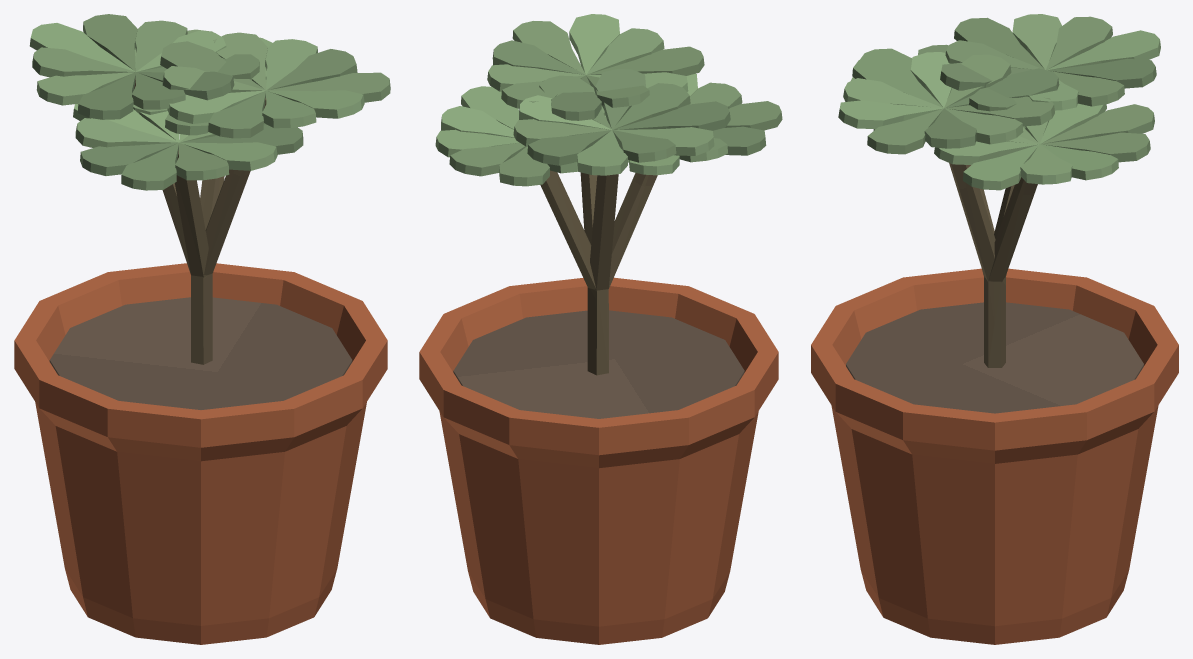
Rendered from new-arboreum.glb.
3 views of the same model, side by side, from view 1: azimuth 30°, elevation 25°; view 2: azimuth 150°, elevation 25°; view 3: azimuth 270°, elevation 25° (orthographic). The views are drawn at different scales.
Visible parts, largest first — view 1: new-arboreum/review-terra-vessel, new-arboreum/review-rooted-soil, new-arboreum/stem-034, new-arboreum/stem-023, new-arboreum/leaf-014, new-arboreum/leaf-015, new-arboreum/leaf-016, new-arboreum/leaf-027, new-arboreum/leaf-029, new-arboreum/leaf-040, new-arboreum/leaf-018, new-arboreum/leaf-044 (+22 smaller); view 2: new-arboreum/review-terra-vessel, new-arboreum/review-rooted-soil, new-arboreum/stem-012, new-arboreum/stem-001, new-arboreum/stem-023, new-arboreum/leaf-018, new-arboreum/leaf-042, new-arboreum/leaf-040, new-arboreum/leaf-043, new-arboreum/leaf-041, new-arboreum/leaf-014, new-arboreum/leaf-019 (+23 smaller); view 3: new-arboreum/review-terra-vessel, new-arboreum/review-rooted-soil, new-arboreum/stem-034, new-arboreum/stem-001, new-arboreum/leaf-004, new-arboreum/leaf-015, new-arboreum/leaf-016, new-arboreum/leaf-042, new-arboreum/leaf-043, new-arboreum/leaf-010, new-arboreum/leaf-018, new-arboreum/leaf-040 (+21 smaller).
Part boxes in pixels (x1=…): new-arboreum/review-terra-vessel: x1=14, y1=263, x2=387, y2=644; new-arboreum/review-rooted-soil: x1=49, y1=297, x2=352, y2=409; new-arboreum/stem-034: x1=191, y1=98, x2=266, y2=364; new-arboreum/stem-023: x1=175, y1=150, x2=212, y2=364; new-arboreum/leaf-014: x1=83, y1=14, x2=137, y2=71; new-arboreum/leaf-015: x1=29, y1=23, x2=134, y2=71; new-arboreum/leaf-016: x1=32, y1=47, x2=135, y2=77; new-arboreum/leaf-027: x1=75, y1=118, x2=178, y2=147; new-arboreum/leaf-029: x1=121, y1=143, x2=178, y2=190; new-arboreum/leaf-040: x1=208, y1=91, x2=265, y2=138; new-arboreum/leaf-018: x1=78, y1=72, x2=135, y2=119; new-arboreum/leaf-044: x1=267, y1=49, x2=357, y2=90; new-arboreum/review-terra-vessel: x1=419, y1=277, x2=778, y2=644; new-arboreum/review-rooted-soil: x1=453, y1=310, x2=744, y2=418; new-arboreum/stem-012: x1=587, y1=174, x2=618, y2=375; new-arboreum/stem-001: x1=540, y1=170, x2=608, y2=375; new-arboreum/stem-023: x1=596, y1=173, x2=657, y2=348; new-arboreum/leaf-018: x1=613, y1=101, x2=730, y2=130; new-arboreum/leaf-042: x1=569, y1=14, x2=619, y2=74; new-arboreum/leaf-040: x1=587, y1=46, x2=704, y2=75; new-arboreum/leaf-043: x1=512, y1=21, x2=585, y2=74; new-arboreum/leaf-041: x1=586, y1=28, x2=664, y2=74; new-arboreum/leaf-014: x1=527, y1=130, x2=611, y2=165; new-arboreum/leaf-019: x1=612, y1=83, x2=690, y2=129; new-arboreum/review-terra-vessel: x1=811, y1=268, x2=1178, y2=644; new-arboreum/review-rooted-soil: x1=846, y1=302, x2=1143, y2=413; new-arboreum/stem-034: x1=949, y1=163, x2=1005, y2=330; new-arboreum/stem-001: x1=984, y1=177, x2=1037, y2=281; new-arboreum/leaf-004: x1=1041, y1=104, x2=1154, y2=143; new-arboreum/leaf-015: x1=1047, y1=30, x2=1160, y2=70; new-arboreum/leaf-016: x1=1046, y1=16, x2=1112, y2=69; new-arboreum/leaf-042: x1=838, y1=100, x2=943, y2=129; new-arboreum/leaf-043: x1=867, y1=108, x2=943, y2=154; new-arboreum/leaf-010: x1=963, y1=144, x2=1038, y2=190; new-arboreum/leaf-018: x1=954, y1=17, x2=1044, y2=69; new-arboreum/leaf-040: x1=852, y1=55, x2=943, y2=107.
Bounding box in the file's own units: 0.19 × 0.2945 × 0.19.
Materials: 4 (4 with a texture image).
